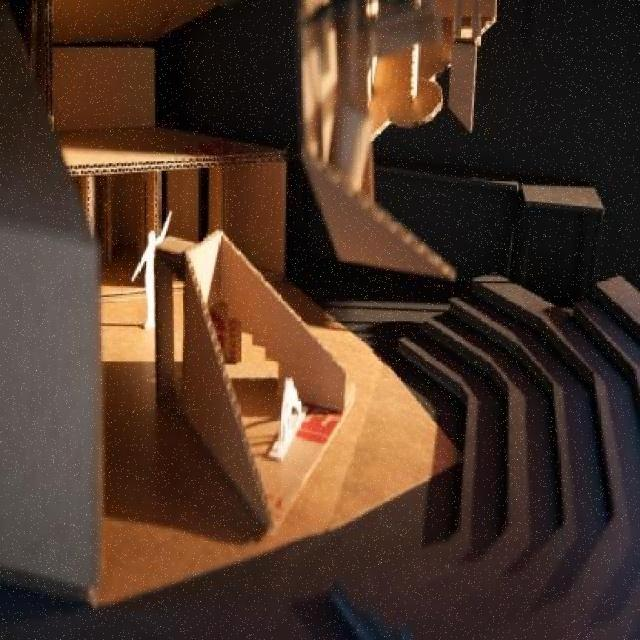stair: (323, 266, 640, 639)
